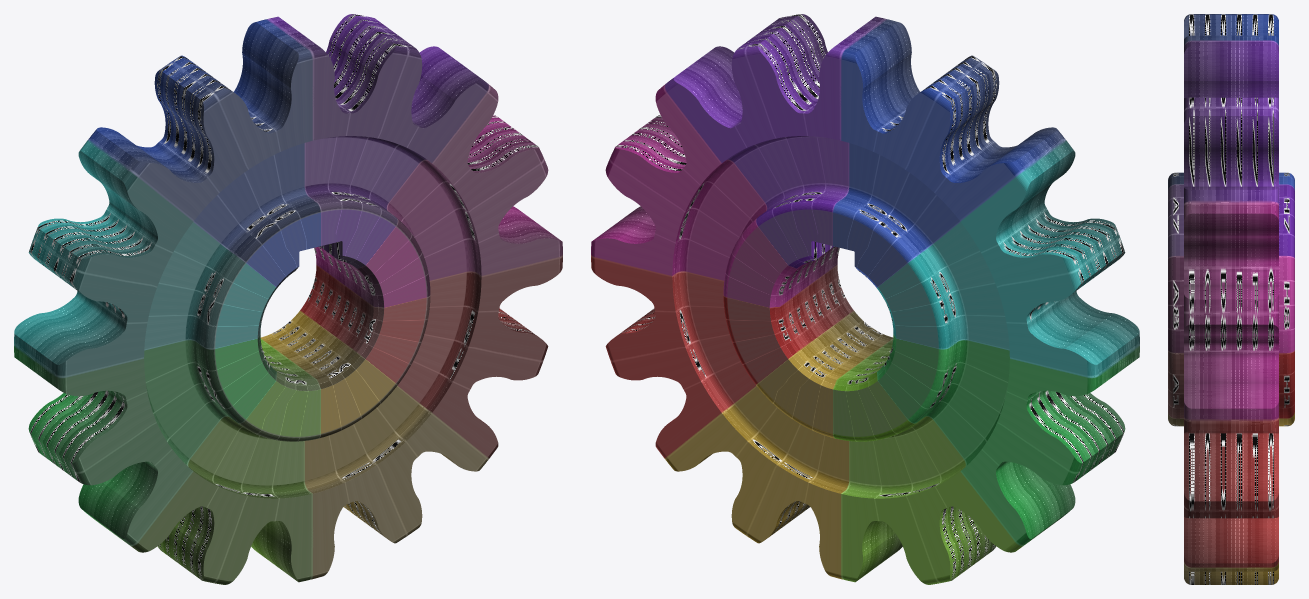
The model's file is Gear.FBX.
3 views of the same model, side by side, from view 1: azimuth 30°, elevation 25°; view 2: azimuth 150°, elevation 25°; view 3: azimuth 270°, elevation 25° (orthographic). The views are drawn at different scales.
Visible parts, largest first — view 1: Gear_Spur_16T_Keyway; view 2: Gear_Spur_16T_Keyway; view 3: Gear_Spur_16T_Keyway.
Boxes of the visible parts, box(x1,y1,x2,y2) form: Gear_Spur_16T_Keyway: box(14, 14, 562, 584); Gear_Spur_16T_Keyway: box(591, 14, 1139, 584); Gear_Spur_16T_Keyway: box(1168, 14, 1294, 584).
Bounding box in the file's own units: 1.12 × 1.12 × 0.25.
1 material, 1 textured.
